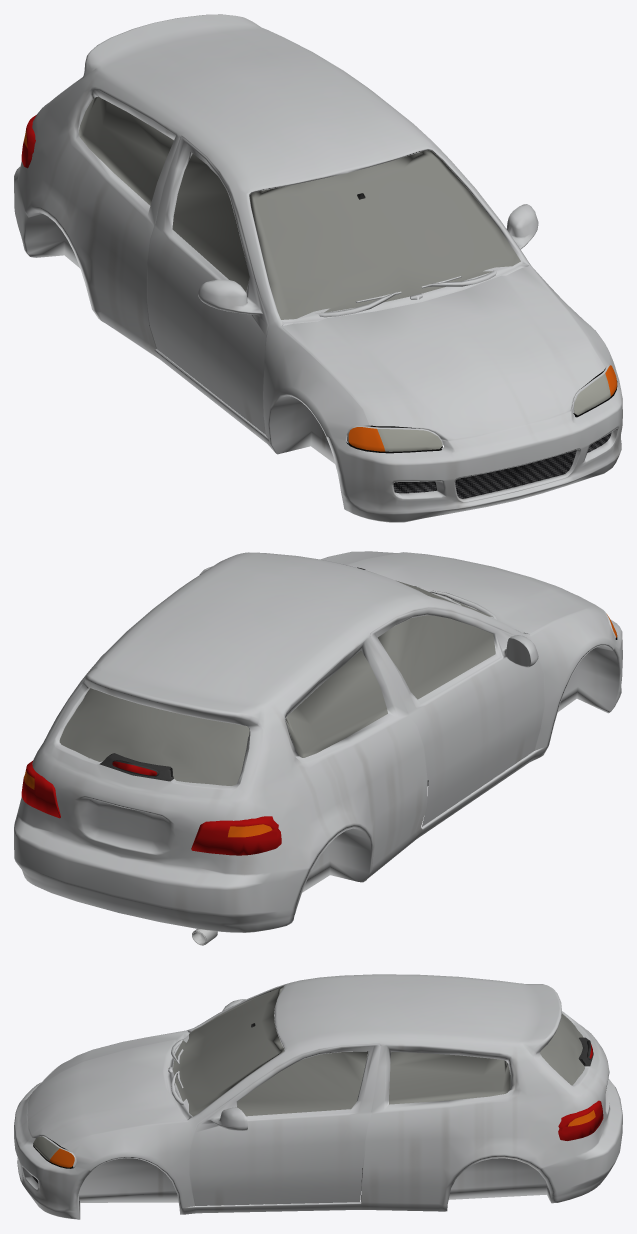
The model's file is civic.glb.
The picture shows the model from 3 angles, top to bottom: view 1: azimuth 30°, elevation 25°; view 2: azimuth 150°, elevation 25°; view 3: azimuth 270°, elevation 25°; orthographic projection. The views are drawn at different scales.
Parts seen in each view (by area): view 1: civic; view 2: civic; view 3: civic.
Boxes of the visible parts, box(x1,y1,x2,y2) form: civic: box(14, 14, 622, 522); civic: box(14, 551, 622, 945); civic: box(14, 974, 622, 1219).
Size of the model in its own units: 2.03 by 1.33 by 4.3.
Materials: 10 (10 with a texture image).
